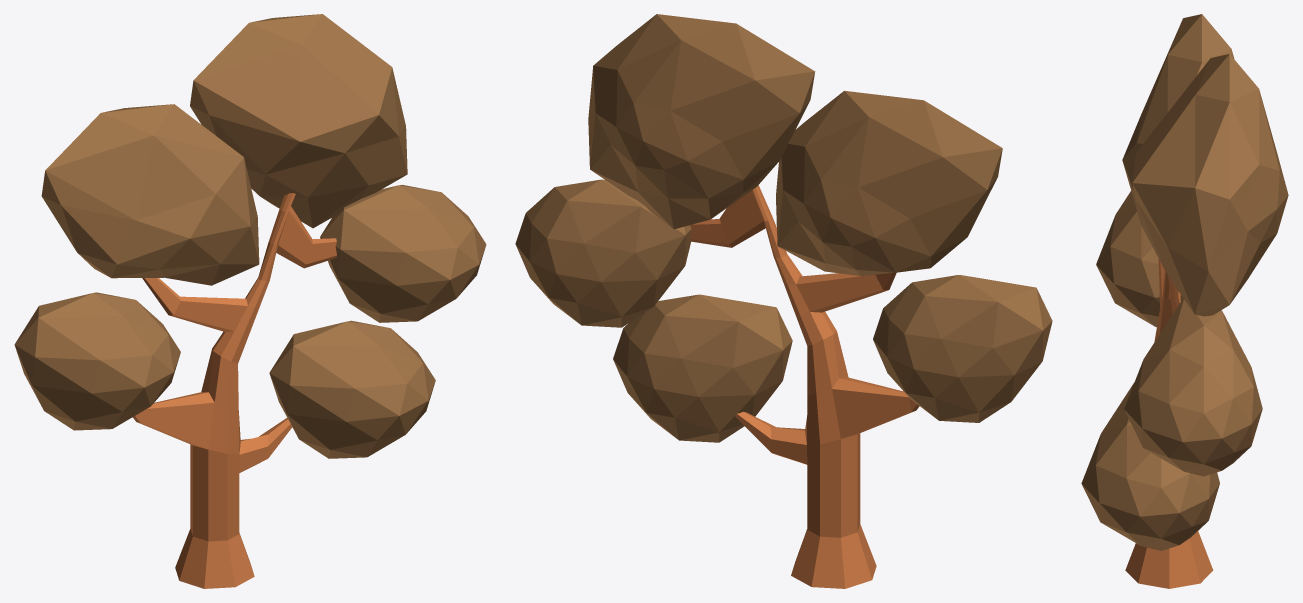
Rendered from LargeTree2.fbx.
The picture shows the model from 3 angles, left to right: view 1: azimuth 30°, elevation 25°; view 2: azimuth 150°, elevation 25°; view 3: azimuth 270°, elevation 25°; orthographic projection. The views are drawn at different scales.
Parts seen in each view (by area): view 1: Cylinder; view 2: Cylinder; view 3: Cylinder.
Boxes of the visible parts, bbox=[...] form: Cylinder: bbox=[14, 14, 486, 588]; Cylinder: bbox=[515, 14, 1052, 588]; Cylinder: bbox=[1081, 14, 1288, 588].
Size of the model in its own units: 560 by 579 by 198.
